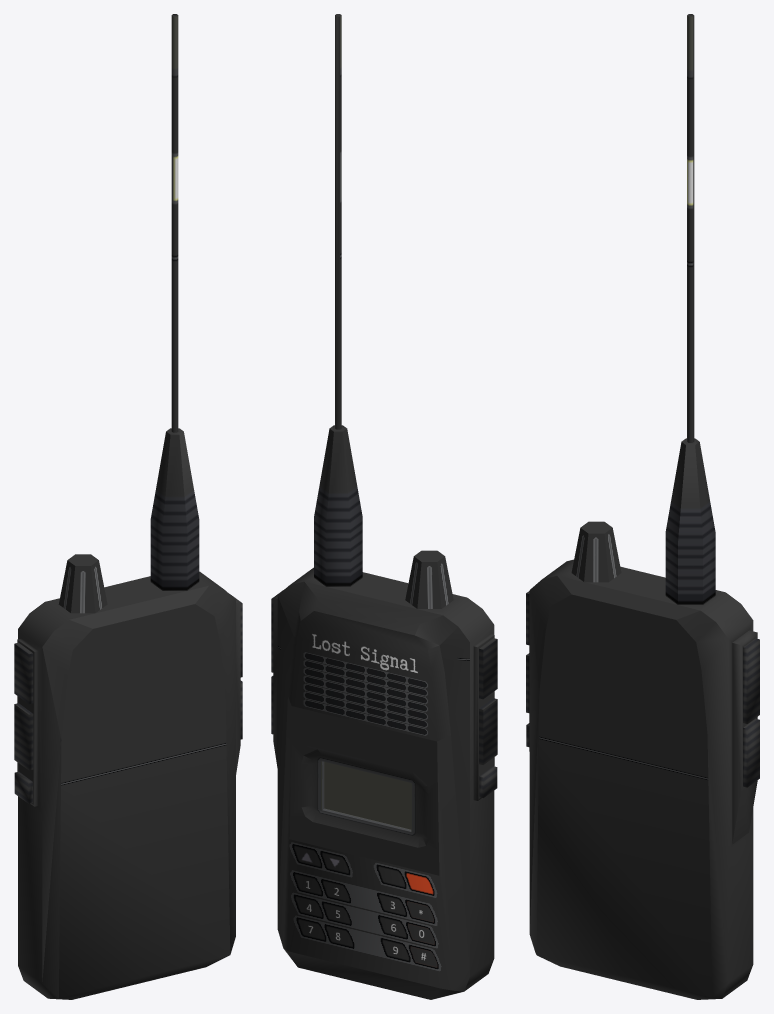
File: Radio.fbx
The picture shows the model from 3 angles, left to right: view 1: azimuth 30°, elevation 25°; view 2: azimuth 150°, elevation 25°; view 3: azimuth 330°, elevation 25°; orthographic projection. The views are drawn at different scales.
Visible parts, largest first — view 1: Radio; view 2: Radio; view 3: Radio.
Part boxes in pixels (x1,y1,x2,y2): Radio: [14, 14, 242, 999]; Radio: [271, 14, 497, 999]; Radio: [526, 14, 759, 999].
Bounding box in the file's own units: 0.1 × 0.4213 × 0.0315.
